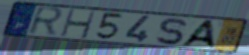4: (123, 15, 152, 44)
5: (94, 11, 127, 41)
A: (178, 19, 218, 50)
H: (59, 8, 97, 40)
R: (26, 5, 66, 38)
S: (154, 17, 188, 46)
